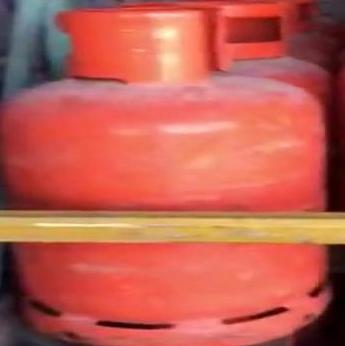cylinder: (1, 0, 345, 346)
